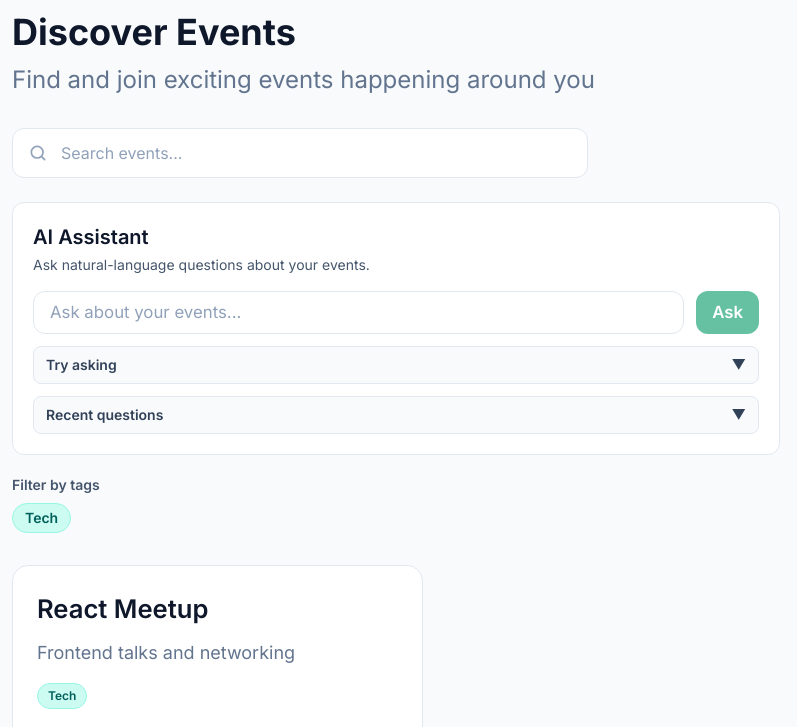
Scenario: EventsPage › loads recent assistant questions from localStorage
Expected: the heading "React Meetup" is shown, [37, 593, 208, 624]
Click the button "Recent questions ▼" at coordinates (105, 415), box [33, 396, 759, 434]
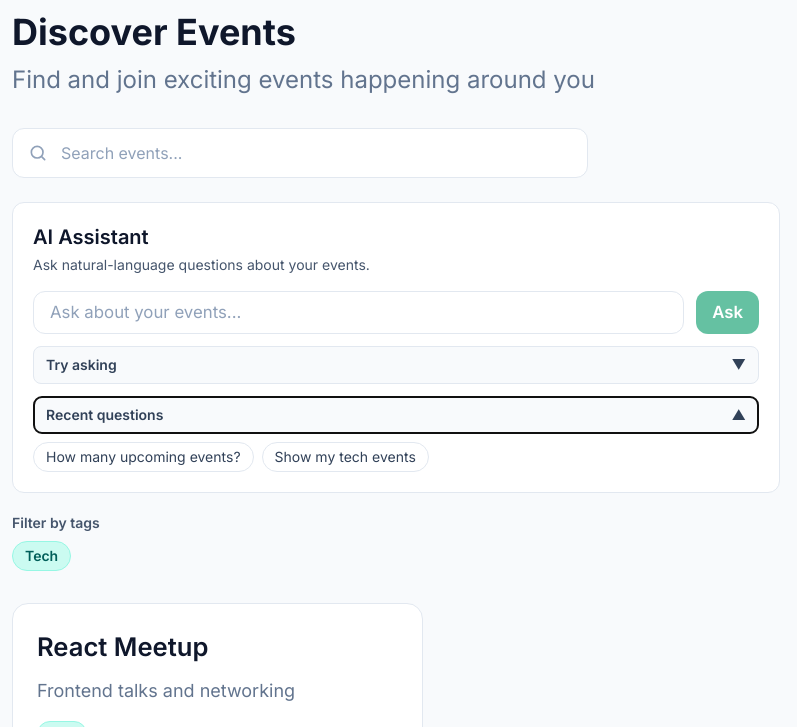
Expected: the button "How many upcoming events?" is shown, [33, 442, 254, 472]
Expected: the button "Show my tech events" is shown
Click the button "Show my tech events" at coordinates (345, 457), box [262, 442, 429, 472]
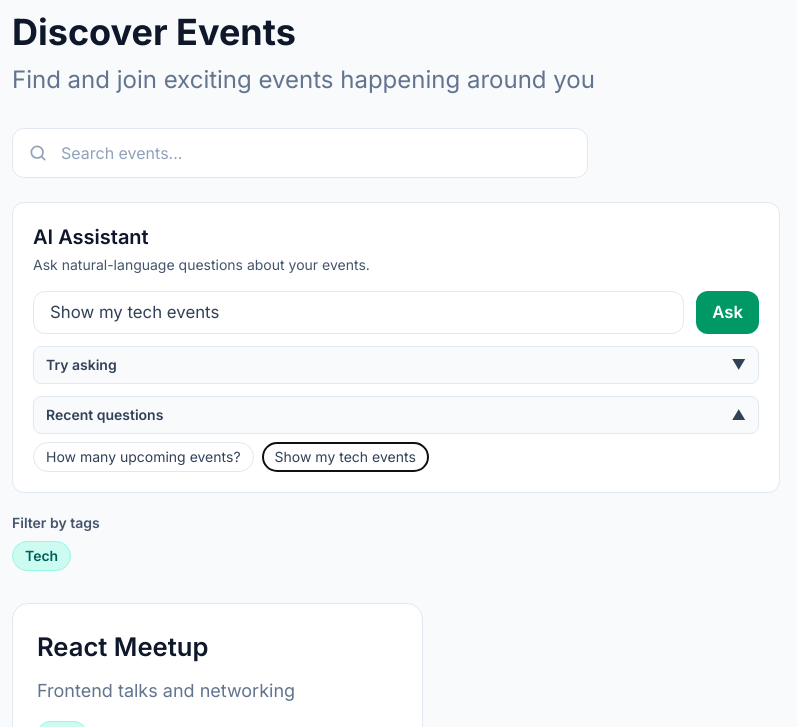
Expected: the field with placeholder "Ask about your events..." holds "Show my tech events", [33, 291, 684, 334]
